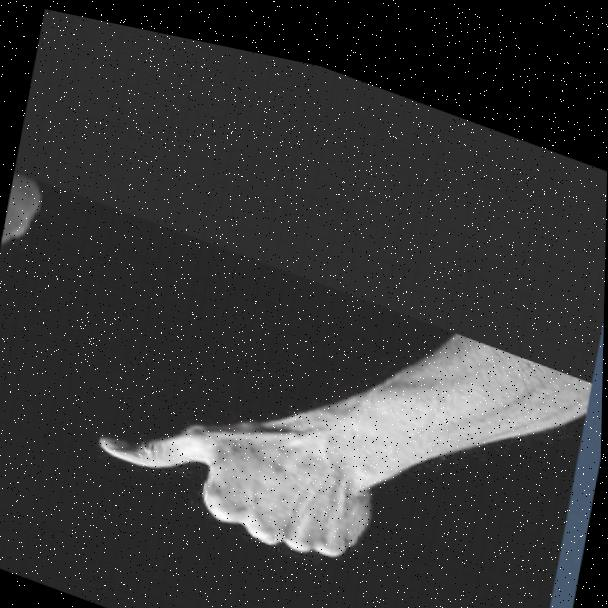five: (81, 342, 410, 579)
